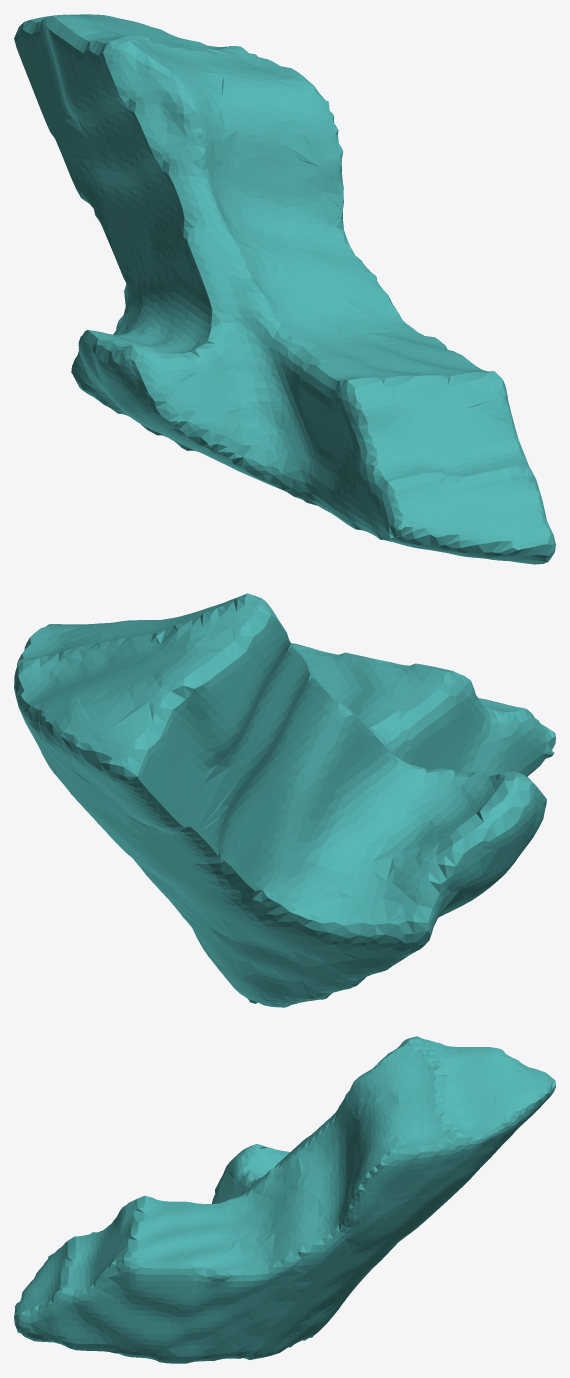
File: Model_131_RH__Temporal_area_TE__occipital_part_(TEO).obj
The picture shows the model from 3 angles, top to bottom: view 1: azimuth 30°, elevation 25°; view 2: azimuth 150°, elevation 25°; view 3: azimuth 270°, elevation 25°; orthographic projection. The views are drawn at different scales.
Size of the model in its own units: 3.45 by 4.38 by 7.74.
